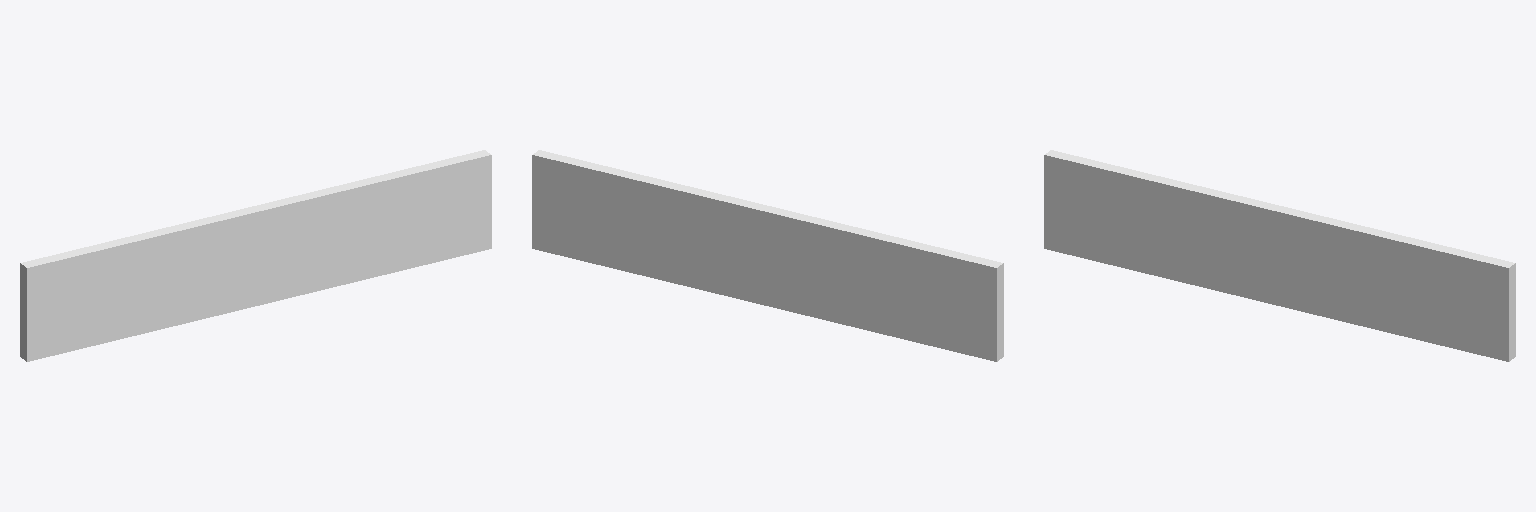
robot.urdf — wall1_11.urdf:
<?xml version="1.0" ?>
<robot name="wall1_11.urdf">
  <link name="baseLink">
    <inertial>
      <origin rpy="0 0 0" xyz="0 0 0"/>
       <mass value="0.0"/>
       <inertia ixx="0" ixy="0" ixz="0" iyy="0" iyz="0" izz="0"/>
    </inertial>
    <visual>
      <origin rpy="0 0 0" xyz="0 0 0"/>
      <geometry>
        <mesh filename="wall1_11.obj" scale="1.0 1.0 1.0"/>
      </geometry>
      <material name="white">
       <color rgba="1 1 1 1"/>
     </material>
    </visual>
    <collision concave="yes">
      <origin rpy="0 0 0" xyz="0 0 0"/>
      <geometry>
        <mesh filename="wall1_11.obj" scale="1.0 1.0 1.0"/>
        <!-- You could also specify the collision (for the wall1_11) with a "box" tag: -->
        <!-- <box size=".06 .06 .06"/> -->
      </geometry>
    </collision>
  </link>
</robot>
        

--- What the picture shows (computed from the rendered views, not written in the file) ---
Views: 3 orthographic renders of the robot side by side, from view 1: azimuth 30°, elevation 25°; view 2: azimuth 150°, elevation 25°; view 3: azimuth 330°, elevation 25°.
Model wall1_11.urdf with 1 links and 0 joints (none), rooted at baseLink, posed all joints at 0.
Visible links, largest first — view 1: baseLink; view 2: baseLink; view 3: baseLink.
Boxes of the visible links, <box> form: baseLink: <box>20,150,491,361</box>; baseLink: <box>532,150,1003,361</box>; baseLink: <box>1044,150,1515,361</box>.
Size in the robot's own frame: 3.55 by 0.091 by 0.6875 metres.
Meshes: 1 distinct files referenced, 1 mesh visuals loaded (1 OBJ).
